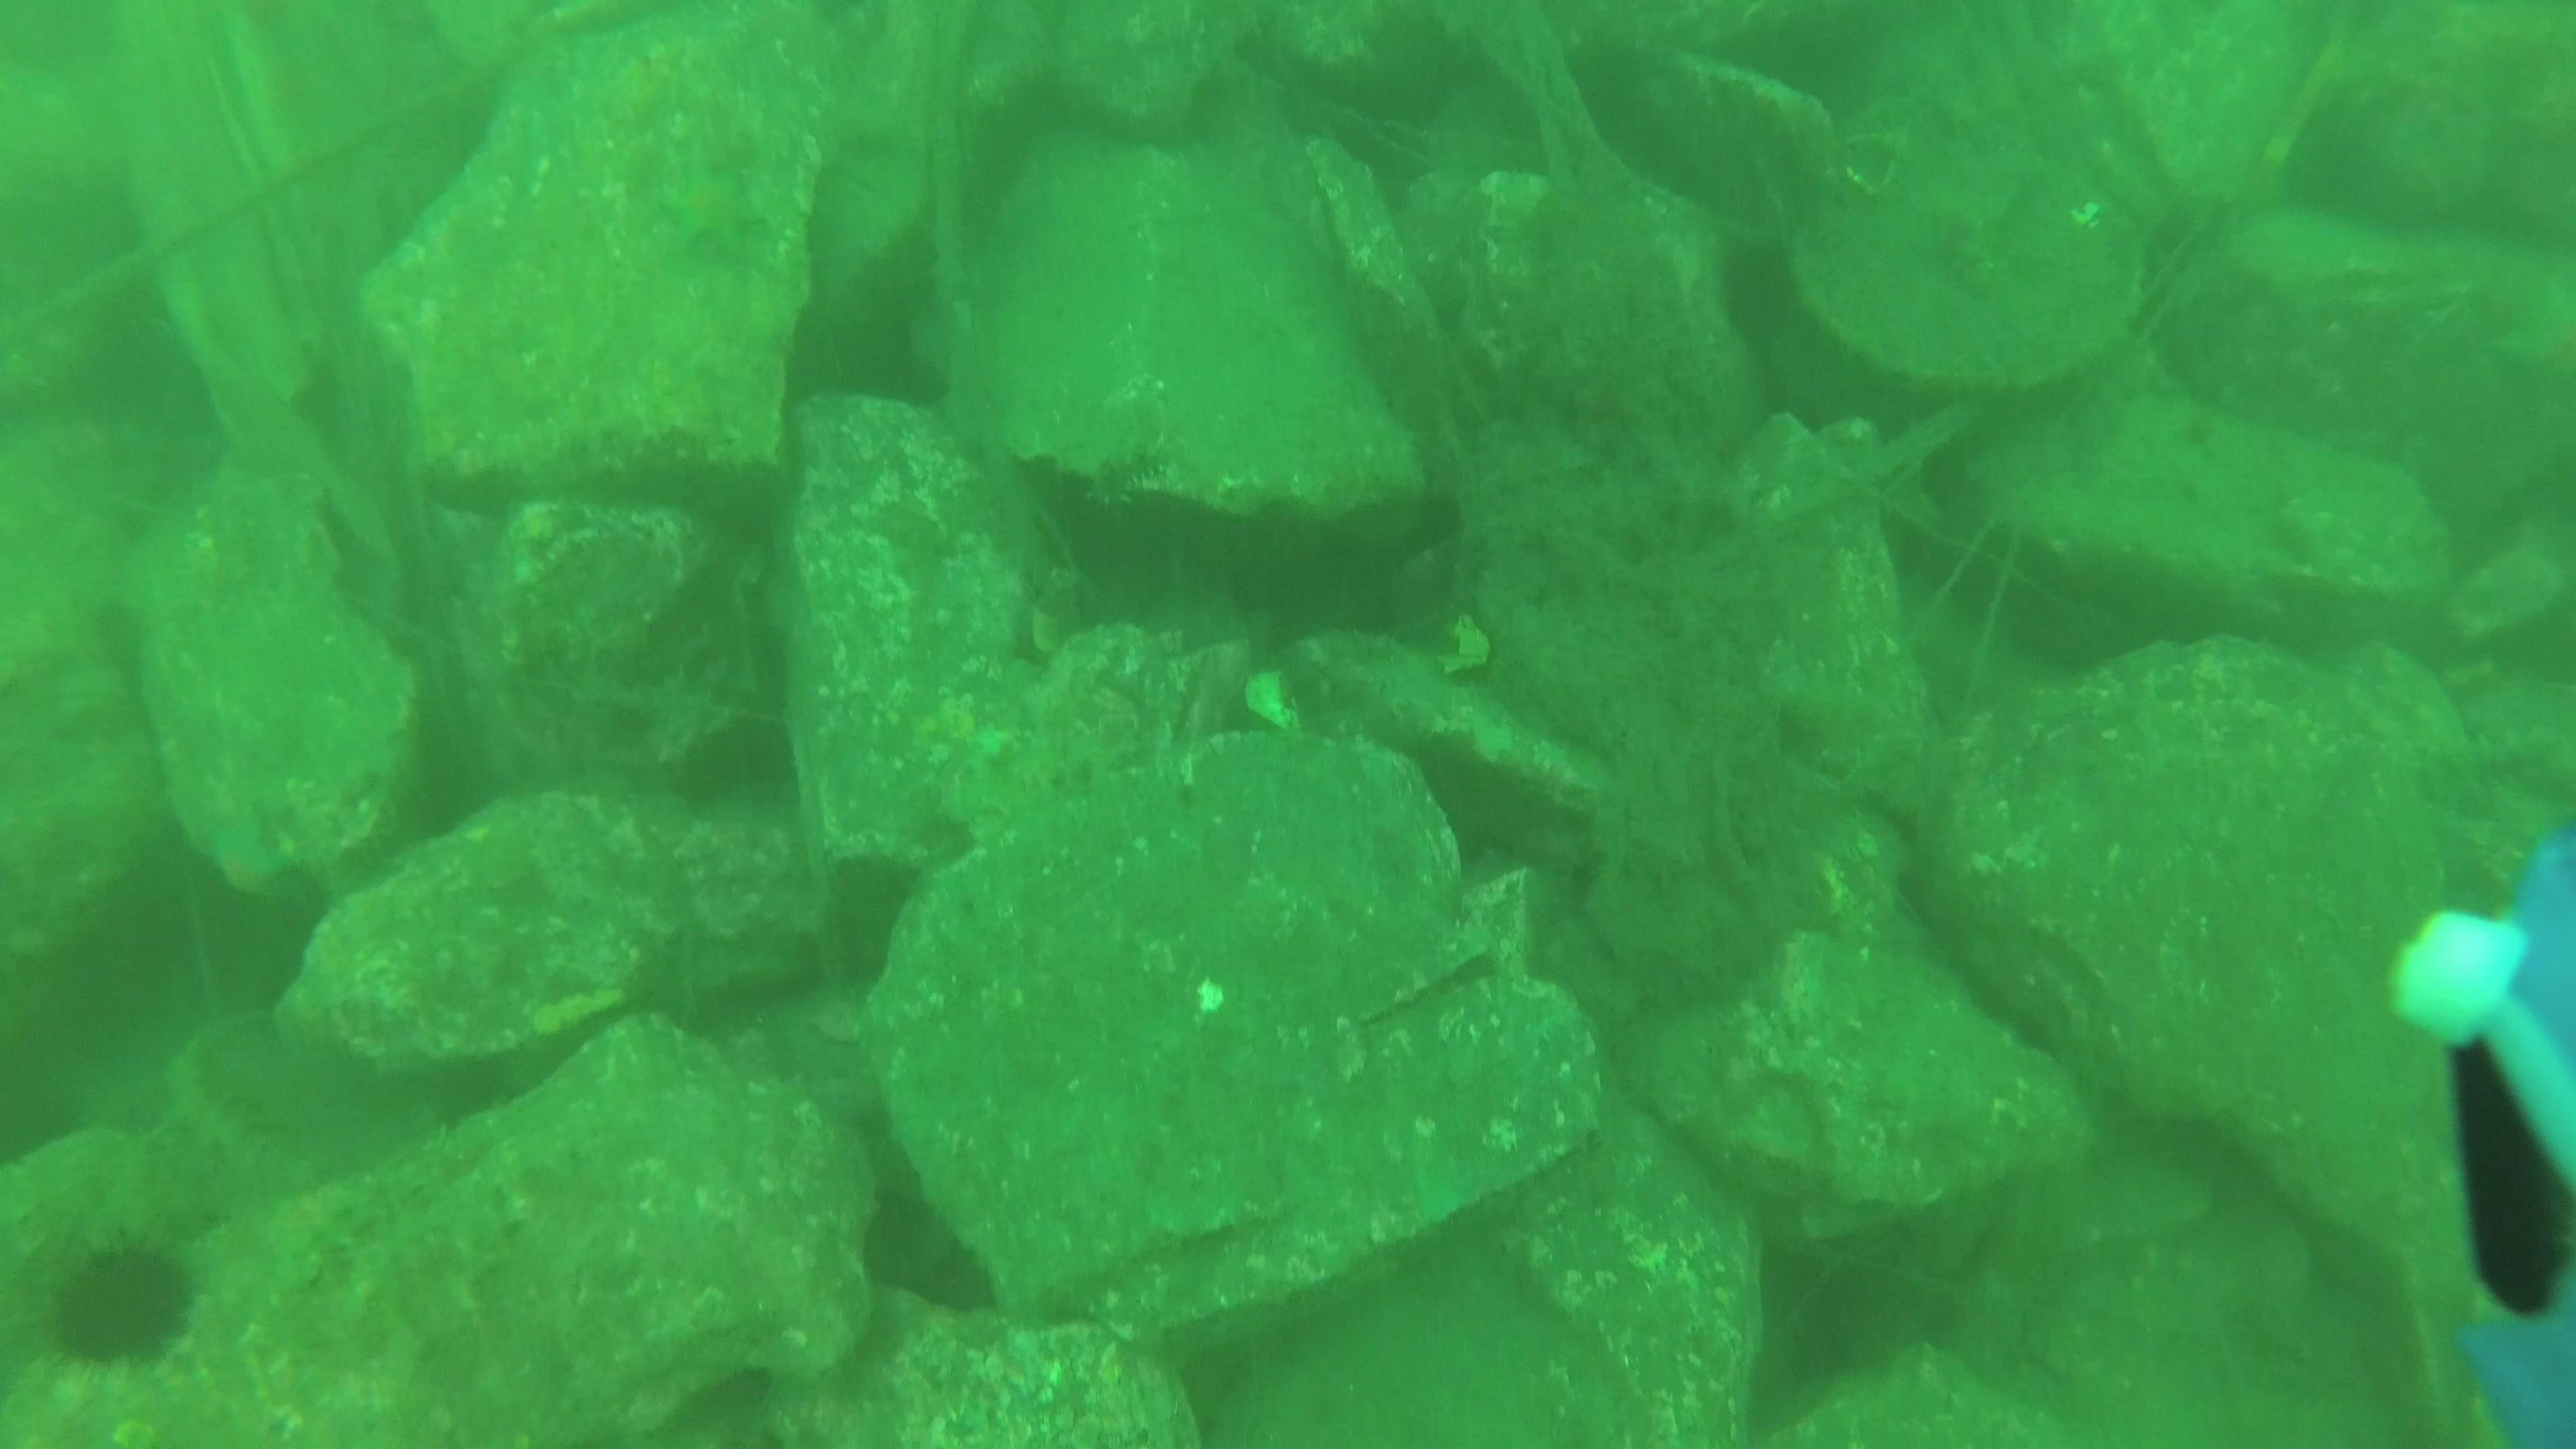echinus: (18, 1228, 209, 1391)
holothurian: (1081, 444, 1175, 513)
